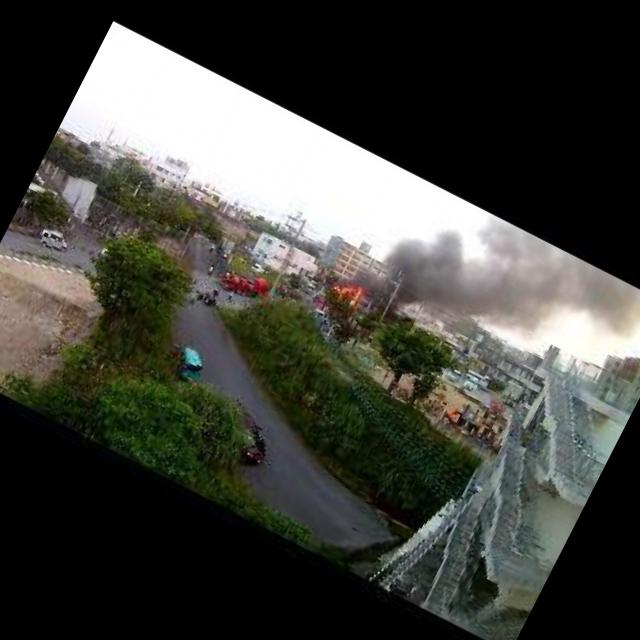fire: (331, 278, 364, 307)
smoke: (340, 195, 549, 362), (465, 212, 640, 356)
